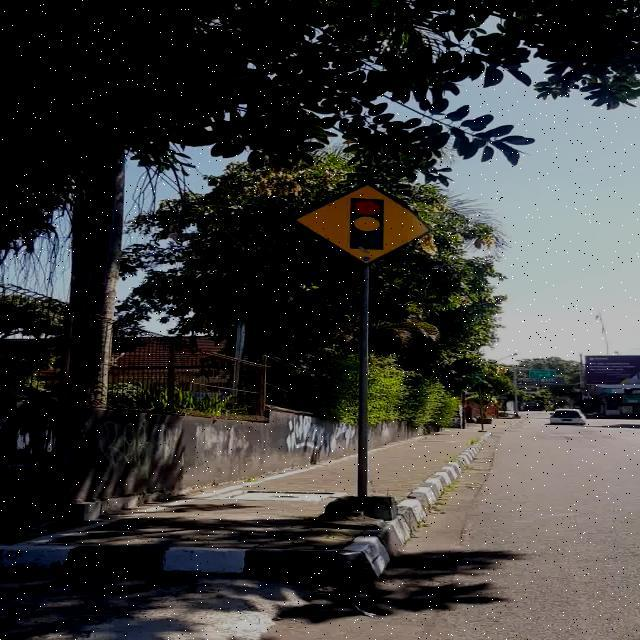Lampu Lalu Lintas: (294, 183, 431, 265)
